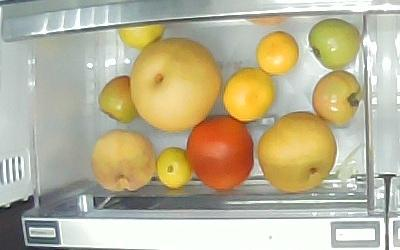peach: (91, 130, 158, 192)
pear: (131, 37, 222, 133), (258, 111, 337, 194)
persimmon: (313, 69, 362, 127), (309, 19, 360, 70), (98, 75, 135, 125)
tangerine: (222, 67, 275, 122), (256, 31, 300, 75), (157, 148, 191, 188), (117, 25, 165, 48)
tomato: (187, 115, 255, 192)
